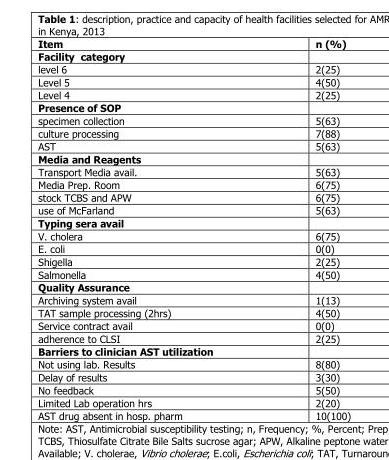table: (37, 36, 350, 421)
table column: (37, 36, 263, 421), (263, 36, 350, 421)
table column header: (37, 36, 350, 49)
table projected row header: (37, 49, 350, 62), (37, 100, 350, 113), (37, 151, 350, 164), (37, 280, 350, 293), (37, 344, 350, 357), (37, 216, 350, 228)
table row: (37, 36, 350, 49), (37, 49, 350, 62), (37, 74, 350, 87), (37, 87, 350, 100), (37, 100, 350, 113), (37, 113, 350, 126), (37, 126, 350, 139), (37, 151, 350, 164), (37, 164, 350, 177), (37, 177, 350, 190), (37, 190, 350, 203), (37, 203, 350, 216), (37, 228, 350, 241), (37, 241, 350, 254), (37, 254, 350, 267), (37, 267, 350, 280), (37, 280, 350, 293), (37, 305, 350, 318), (37, 318, 350, 331), (37, 331, 350, 344), (37, 344, 350, 357), (37, 369, 350, 382), (37, 382, 350, 395), (37, 395, 350, 408), (37, 408, 350, 421), (37, 62, 350, 74), (37, 139, 350, 151), (37, 216, 350, 228), (37, 293, 350, 305), (37, 357, 350, 369)
